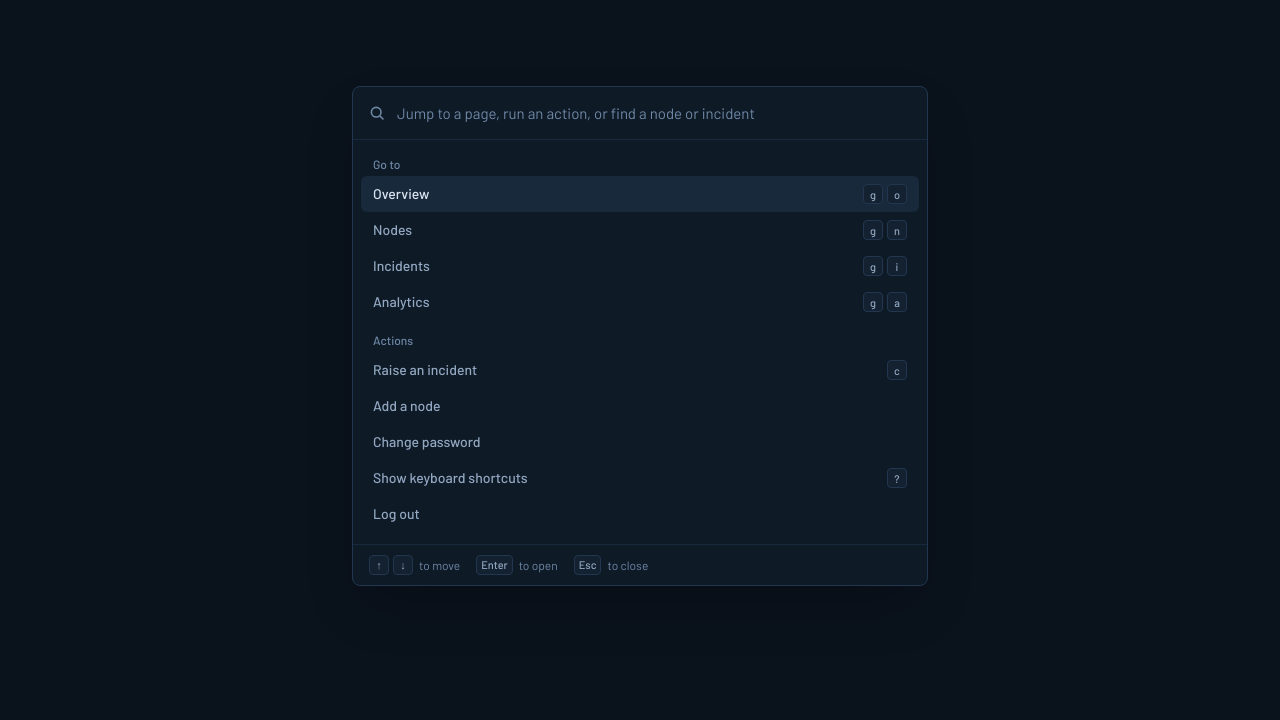
it: CommandPalette › finds nodes and incidents on the server
The image size is (1280, 720).
Later steps or results of the test are not shown.
Step 1. Type "sto" into the dropdown → point(654, 113), box [397, 87, 911, 139]
Wait 250 ms
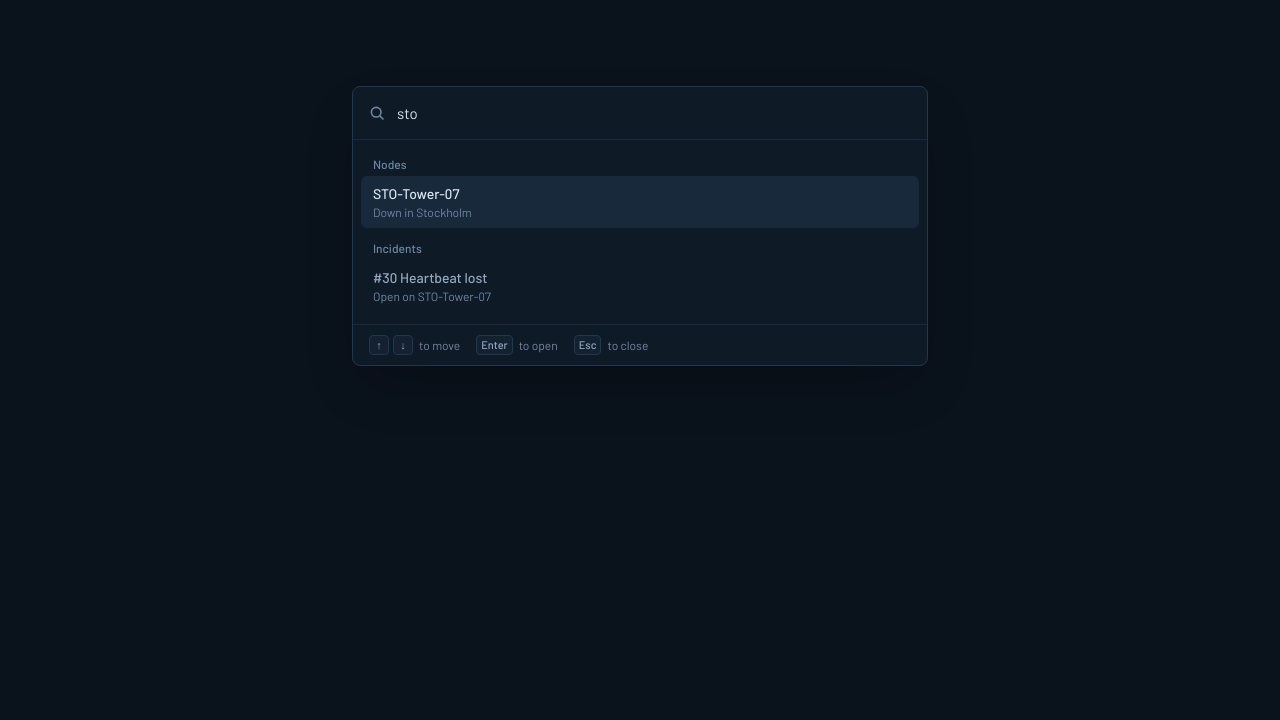
Expected: the text "Nodes" is shown, [373, 157, 407, 171]
Now the text "Down in Stockholm" is shown, box [373, 205, 472, 219]
